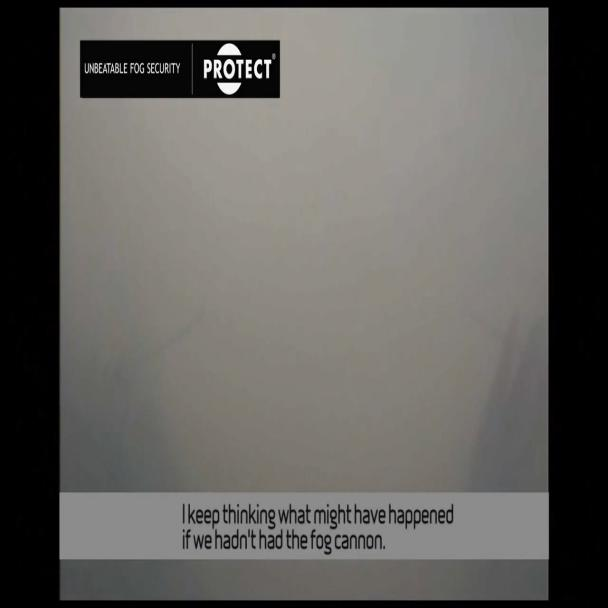smoke: (70, 16, 558, 482)
